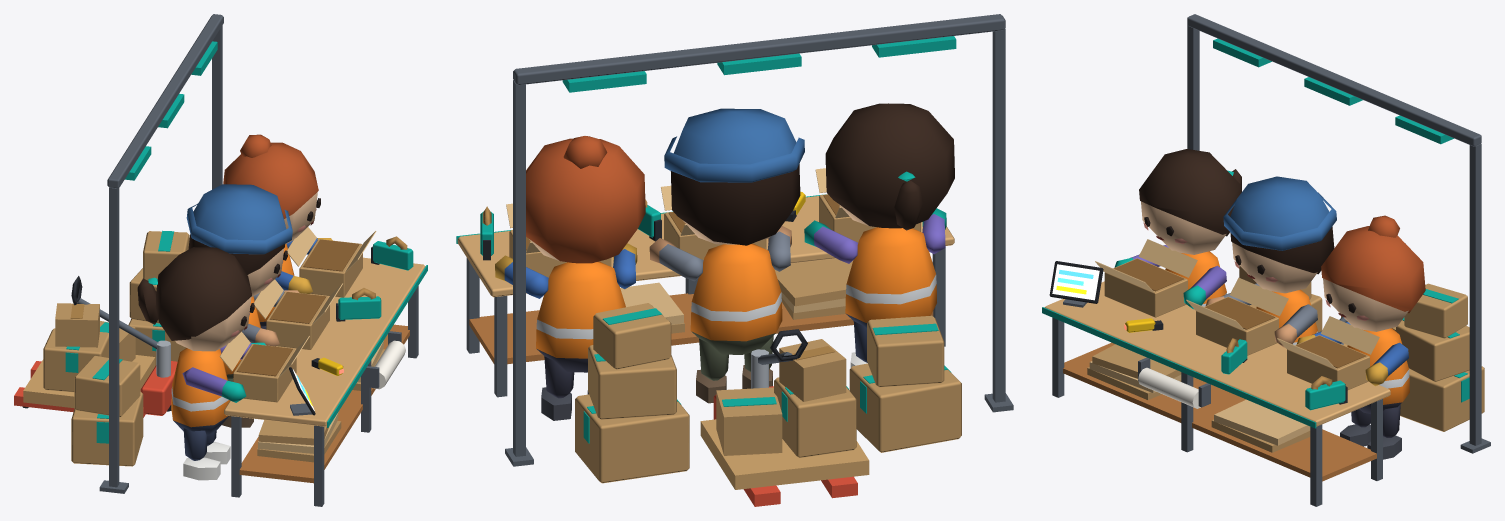
Rendered from station_processing_2.glb.
3 renders of one model, left to right at view 1: azimuth 30°, elevation 25°; view 2: azimuth 150°, elevation 25°; view 3: azimuth 270°, elevation 25°, orthographic. The views are drawn at different scales.
Visible parts, largest first — view 1: station_processing_2; view 2: station_processing_2; view 3: station_processing_2.
Boxes of the visible parts, left/top/right/bottom form: station_processing_2: left=14, top=14, right=427, bottom=506; station_processing_2: left=456, top=14, right=1013, bottom=506; station_processing_2: left=1042, top=14, right=1490, bottom=506.
Bounding box in the file's own units: 2.09 × 1.61 × 2.09.
